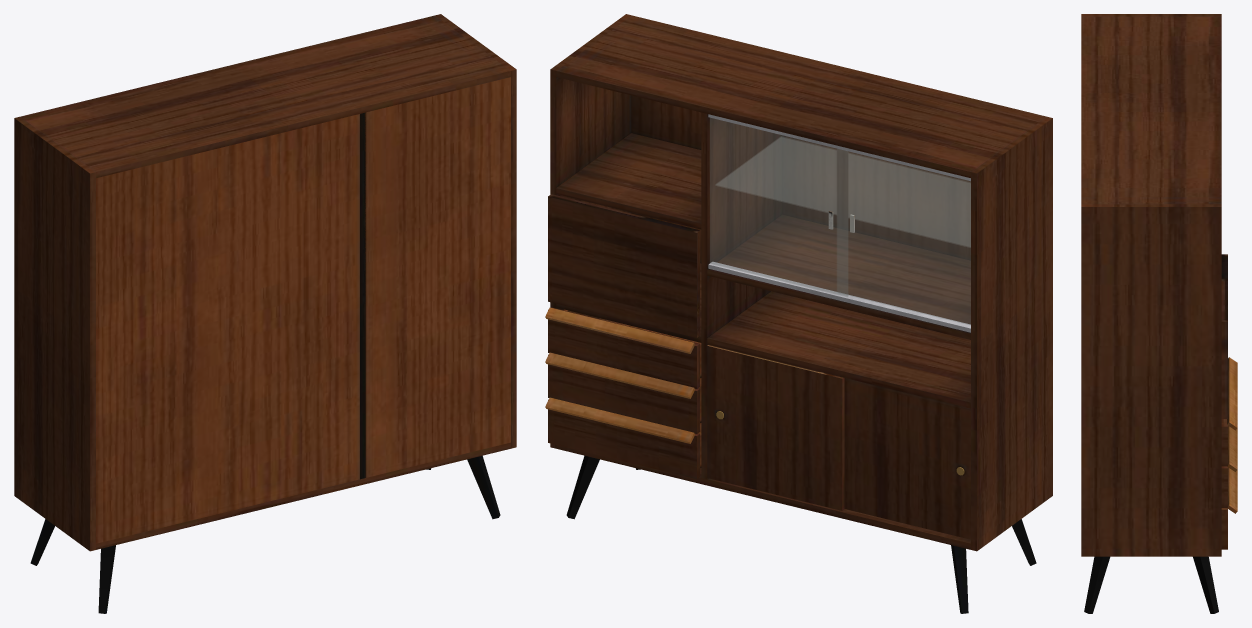
The model's file is bookcase_60s_web.glb.
3 views of the same model, side by side, from view 1: azimuth 30°, elevation 25°; view 2: azimuth 150°, elevation 25°; view 3: azimuth 270°, elevation 25° (orthographic). The views are drawn at different scales.
Visible parts, largest first — view 1: Bookcase60s_Body; view 2: Bookcase60s_Body, Glass_Slide_Glass_L, Glass_Slide_Glass_R, Slide_Doors_L_Mesh, Slide_Doors_R_Mesh, Flap_1_Mesh, Glass_Shelf_60s, Drawer_1_3_Mesh, Drawer_1_1_Mesh, Drawer_1_2_Mesh, Chrome_Bookcase60s; view 3: Bookcase60s_Body, Flap_1_Mesh, Drawer_1_3_Mesh, Drawer_1_1_Mesh, Drawer_1_2_Mesh.
Part boxes in pixels (x1=…): Bookcase60s_Body: x1=14, y1=14, x2=516, y2=613; Bookcase60s_Body: x1=545, y1=14, x2=1052, y2=613; Glass_Slide_Glass_L: x1=710, y1=118, x2=847, y2=296; Glass_Slide_Glass_R: x1=837, y1=149, x2=970, y2=324; Slide_Doors_L_Mesh: x1=707, y1=345, x2=844, y2=510; Slide_Doors_R_Mesh: x1=844, y1=378, x2=970, y2=539; Flap_1_Mesh: x1=548, y1=194, x2=700, y2=337; Glass_Shelf_60s: x1=716, y1=137, x2=970, y2=246; Drawer_1_3_Mesh: x1=548, y1=307, x2=701, y2=388; Drawer_1_1_Mesh: x1=548, y1=399, x2=701, y2=478; Drawer_1_2_Mesh: x1=548, y1=354, x2=701, y2=433; Chrome_Bookcase60s: x1=708, y1=114, x2=970, y2=332; Bookcase60s_Body: x1=1081, y1=14, x2=1237, y2=613; Flap_1_Mesh: x1=1221, y1=254, x2=1227, y2=418; Drawer_1_3_Mesh: x1=1221, y1=419, x2=1227, y2=466; Drawer_1_1_Mesh: x1=1221, y1=508, x2=1227, y2=549; Drawer_1_2_Mesh: x1=1221, y1=466, x2=1227, y2=507.
Bounding box in the file's own units: 1.3 × 1.3 × 0.445.
Materials: 4 (3 with a texture image).
